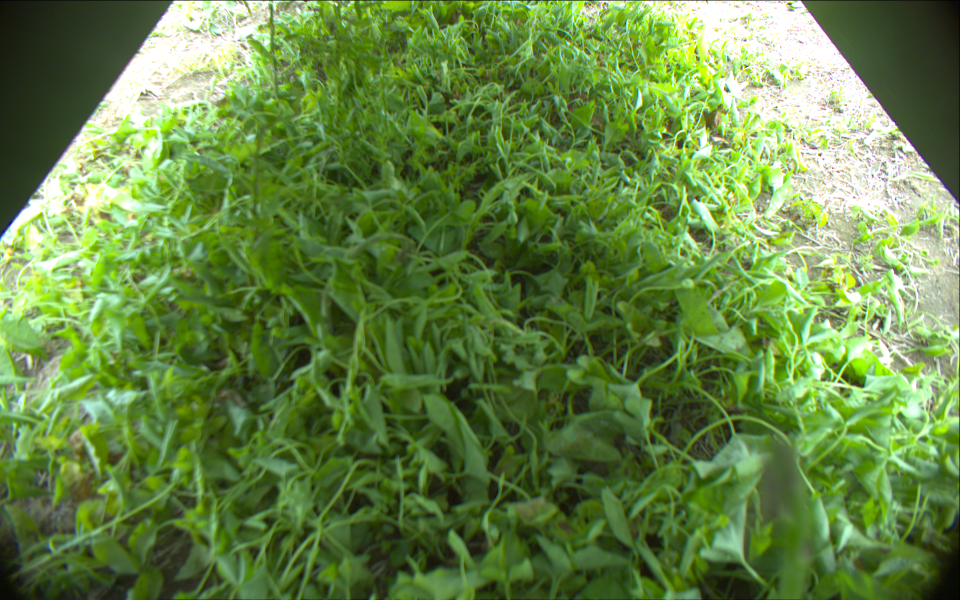aspa: (266, 1, 281, 98)
